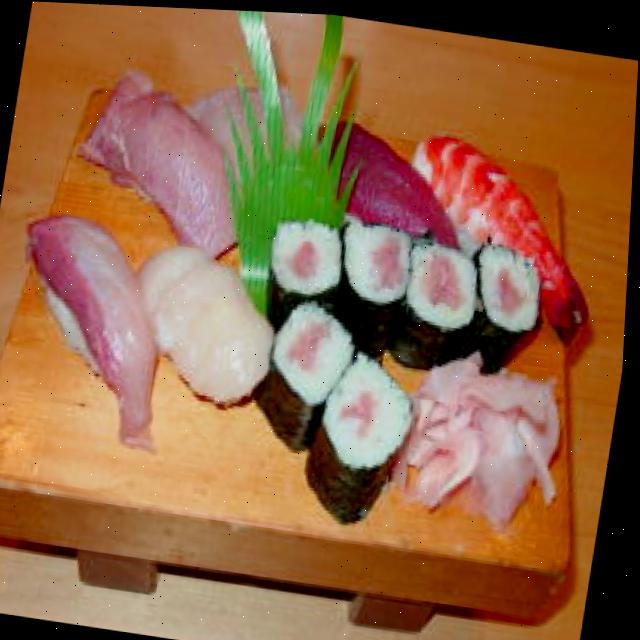寿司卷物: (0, 34, 639, 545)
